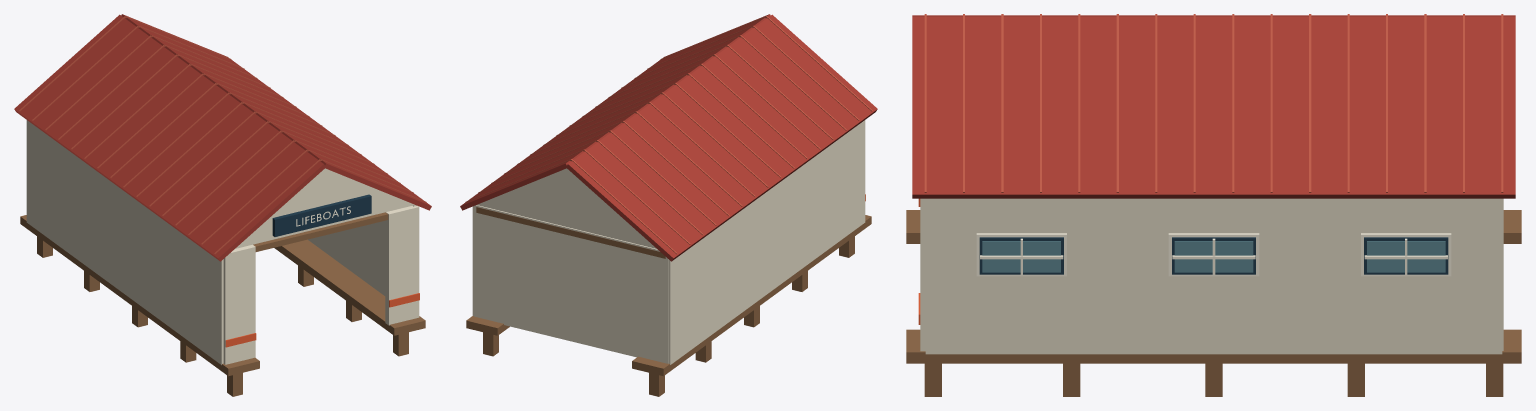
The model's file is lifeboat_house.glb.
3 views of the same model, side by side, from view 1: azimuth 30°, elevation 25°; view 2: azimuth 150°, elevation 25°; view 3: azimuth 270°, elevation 25° (orthographic). The views are drawn at different scales.
Parts seen in each view (by area): view 1: lifeboat_house; view 2: lifeboat_house; view 3: lifeboat_house.
Part boxes in pixels (x1,y1,x2,y2): lifeboat_house: (14, 14, 431, 396); lifeboat_house: (460, 14, 877, 396); lifeboat_house: (906, 14, 1521, 396).
Bounding box in the file's own units: 9.48 × 9.16 × 16.
